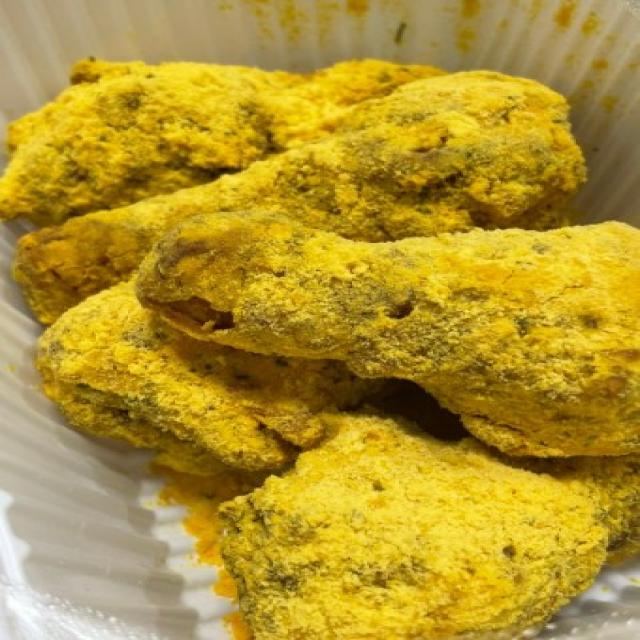Frango: (5, 27, 640, 639)
